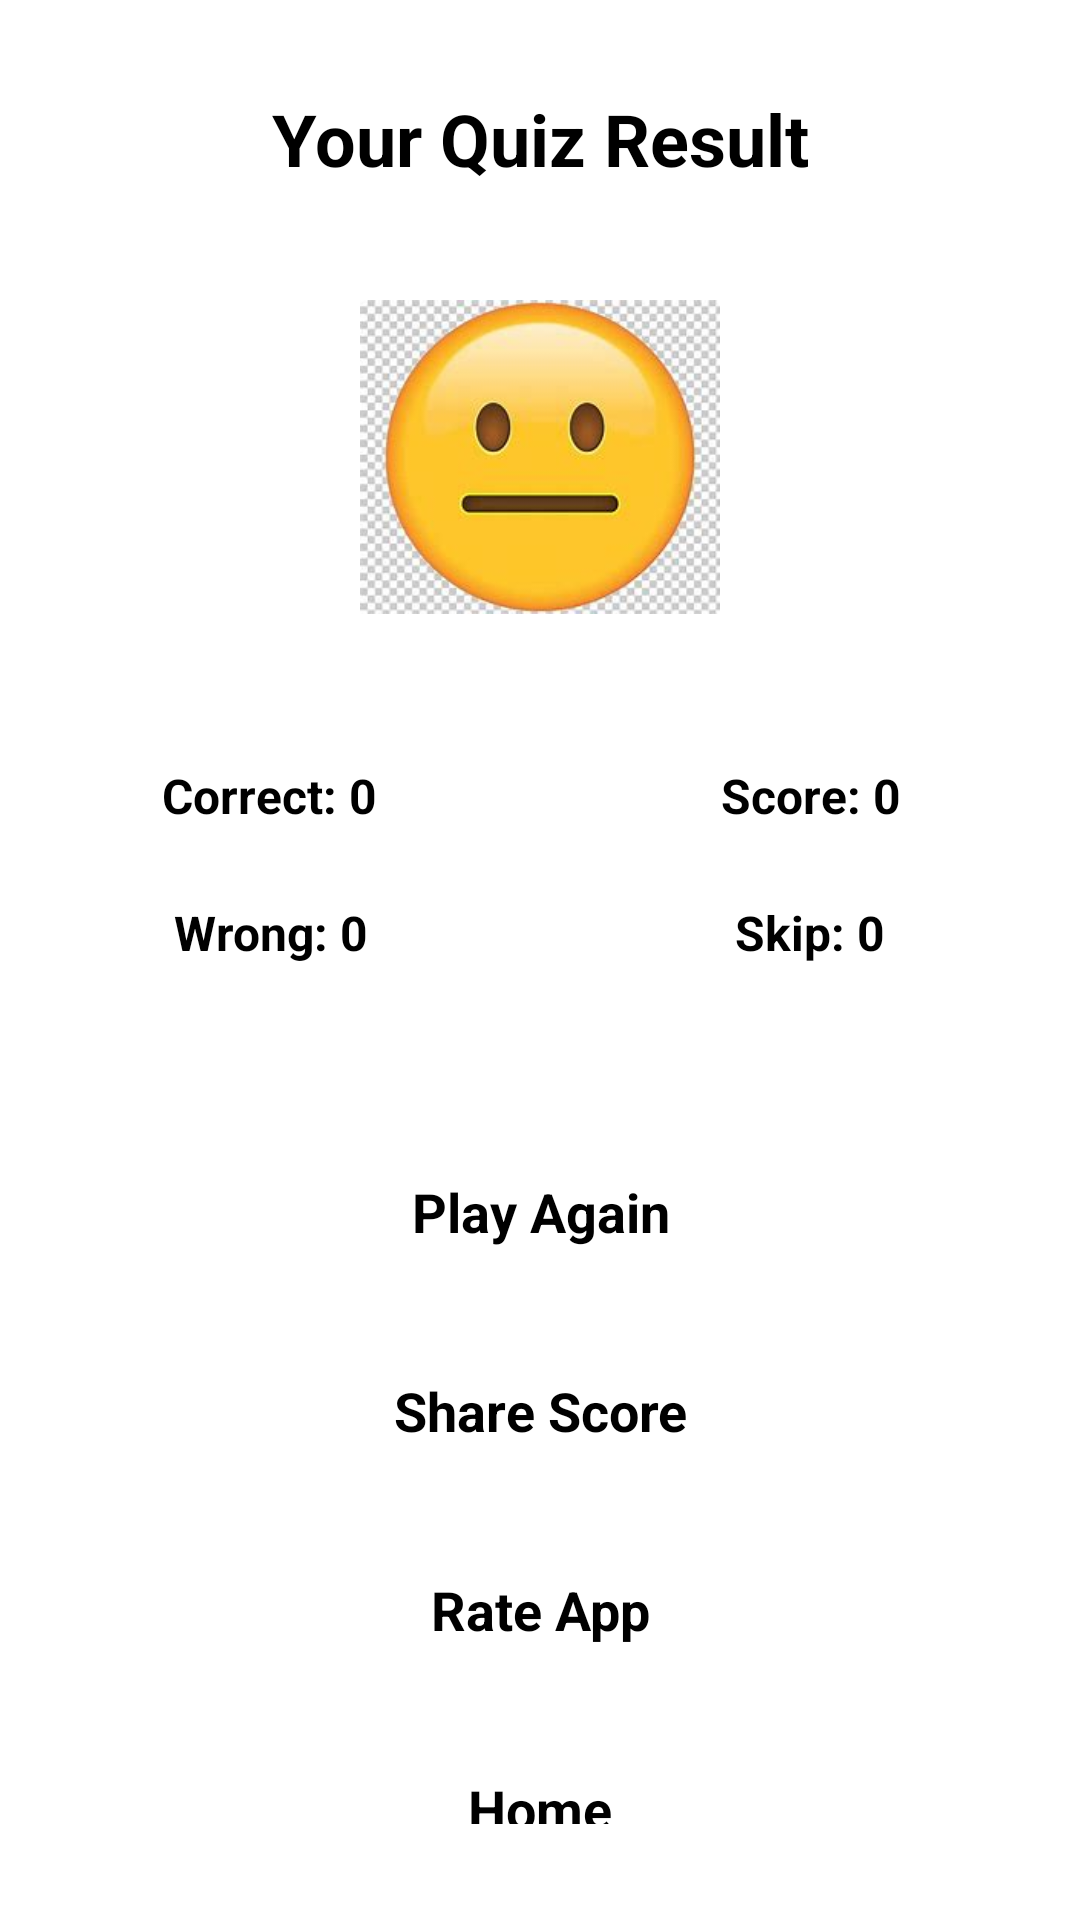

Named icons in this screenshot (1080x1920) and their bounding boxes, (x1, y1, x2, y2):
blank face: (360, 300, 720, 614)
